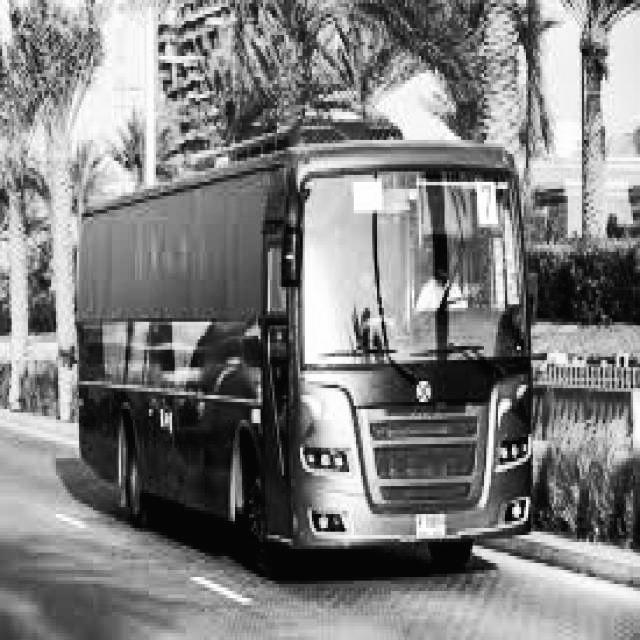Bus: (55, 89, 562, 591)
